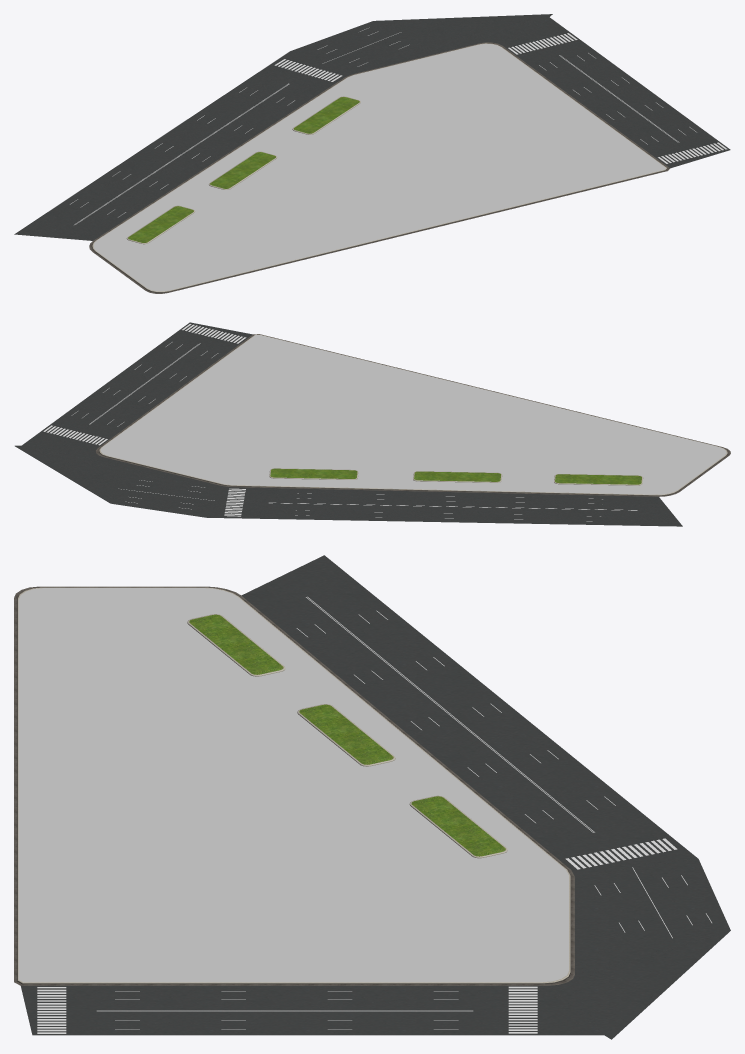
The model's file is Island_Area_01.fbx.
The picture shows the model from 3 angles, top to bottom: view 1: azimuth 30°, elevation 25°; view 2: azimuth 150°, elevation 25°; view 3: azimuth 270°, elevation 25°; orthographic projection. The views are drawn at different scales.
Visible parts, largest first — view 1: Island_Area_01, Terrain_NY_Asphalt.003, Terrain_NY_Marking.017, Terrain_NY_Marking.018, Terrain_NY_Marking.019; view 2: Island_Area_01, Terrain_NY_Asphalt.003, Terrain_NY_Marking.017, Terrain_NY_Marking.018, Terrain_NY_Marking.019; view 3: Island_Area_01, Terrain_NY_Asphalt.003, Terrain_NY_Marking.017, Terrain_NY_Marking.018, Terrain_NY_Marking.019.
Boxes of the visible parts, bbox=[...] form: Island_Area_01: bbox=[89, 42, 669, 293]; Terrain_NY_Asphalt.003: bbox=[14, 14, 730, 240]; Terrain_NY_Marking.017: bbox=[508, 33, 727, 163]; Terrain_NY_Marking.018: bbox=[274, 27, 409, 81]; Terrain_NY_Marking.019: bbox=[70, 83, 294, 224]; Island_Area_01: bbox=[95, 334, 730, 496]; Terrain_NY_Asphalt.003: bbox=[15, 322, 682, 526]; Terrain_NY_Marking.017: bbox=[43, 324, 246, 445]; Terrain_NY_Marking.018: bbox=[118, 480, 245, 516]; Terrain_NY_Marking.019: bbox=[269, 493, 637, 521]; Island_Area_01: bbox=[14, 586, 574, 985]; Terrain_NY_Asphalt.003: bbox=[21, 555, 730, 1039]; Terrain_NY_Marking.017: bbox=[37, 986, 537, 1033]; Terrain_NY_Marking.018: bbox=[565, 838, 711, 938]; Terrain_NY_Marking.019: bbox=[296, 596, 615, 832].
Size of the model in its own units: 16186 by 31.39 by 10120.
